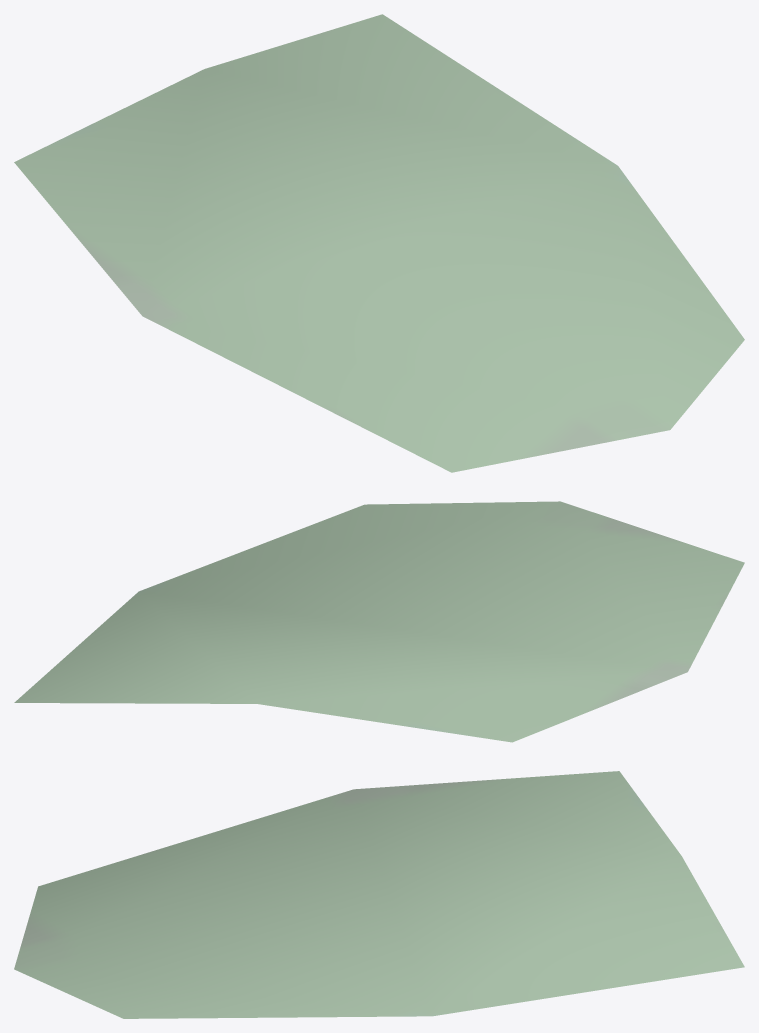
Rendered from TROLLHOLE02_HOLECAP06.fbx.
3 views of the same model, one above another, from view 1: azimuth 30°, elevation 25°; view 2: azimuth 150°, elevation 25°; view 3: azimuth 270°, elevation 25° (orthographic). The views are drawn at different scales.
Visible parts, largest first — view 1: TROLLHOLE02_HOLECAP06; view 2: TROLLHOLE02_HOLECAP06; view 3: TROLLHOLE02_HOLECAP06.
Part boxes in pixels (x1,y1,x2,y2): TROLLHOLE02_HOLECAP06: (14,14,744,472); TROLLHOLE02_HOLECAP06: (14,501,744,742); TROLLHOLE02_HOLECAP06: (14,771,744,1018).
Bounding box in the file's own units: 19294 × 3450 × 27315.
1 material, 1 textured.
